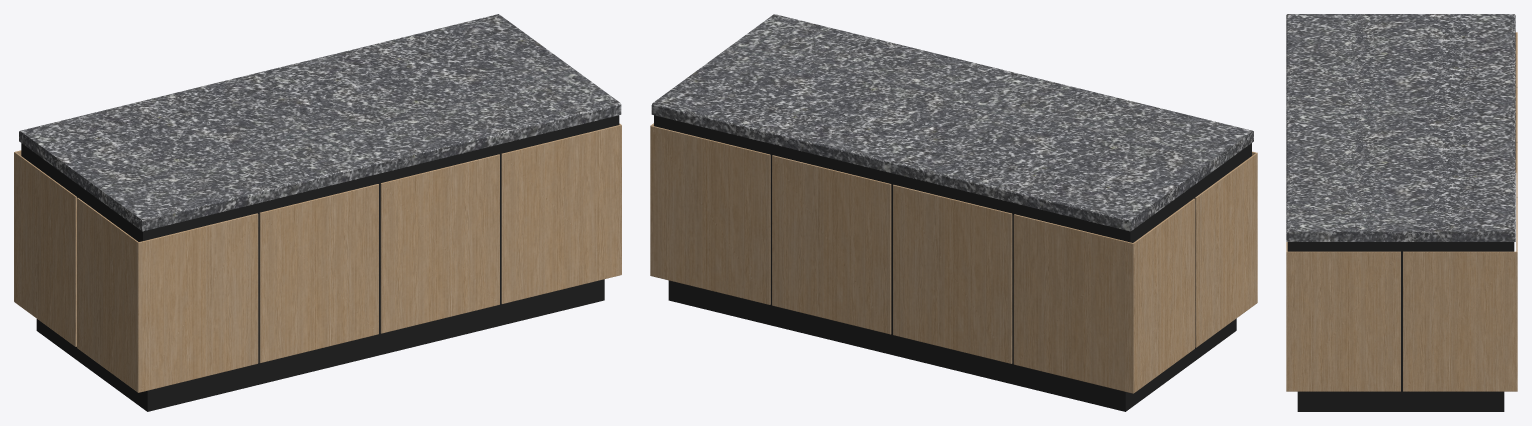
The model's file is Island.fbx.
3 views of the same model, side by side, from view 1: azimuth 30°, elevation 25°; view 2: azimuth 150°, elevation 25°; view 3: azimuth 270°, elevation 25° (orthographic). The views are drawn at different scales.
Visible parts, largest first — view 1: Counter_Face, Counter_Top, Counter_Base, Counter_Body; view 2: Counter_Face, Counter_Top, Counter_Base, Counter_Body; view 3: Counter_Top, Counter_Face, Counter_Base, Counter_Body.
Boxes of the visible parts, x1,y1,x2,y2 form: Counter_Face: (14,123,621,392); Counter_Top: (19,14,621,231); Counter_Base: (36,279,604,411); Counter_Body: (21,115,619,362); Counter_Face: (650,123,1257,393); Counter_Top: (651,14,1253,231); Counter_Base: (668,280,1236,411); Counter_Body: (654,115,1251,361); Counter_Top: (1286,14,1515,241); Counter_Face: (1286,32,1517,391); Counter_Base: (1297,390,1504,411); Counter_Body: (1287,242,1514,390).
Size of the model in its own units: 231 by 90.8 by 103.
Materials: 3 (2 with a texture image).
